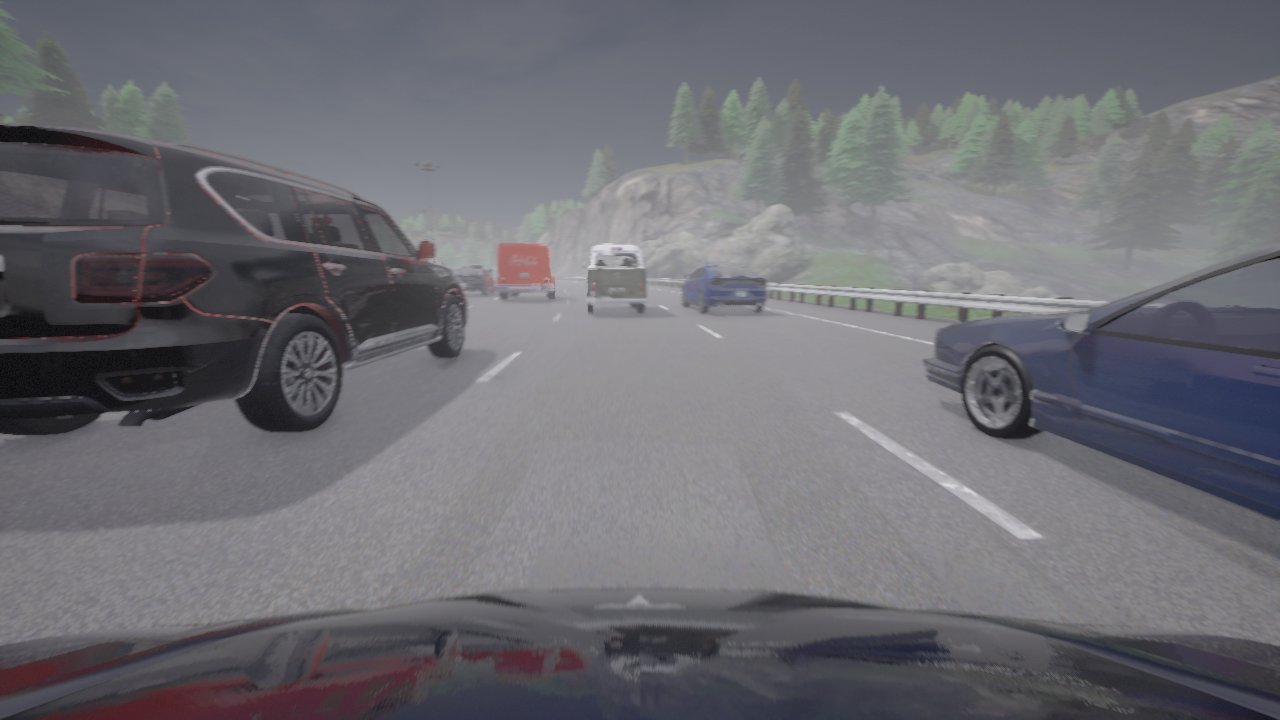cyclist: (0, 588, 1279, 719), (922, 245, 1279, 521), (582, 244, 647, 314), (682, 263, 767, 313), (496, 244, 557, 300), (455, 266, 494, 295)
